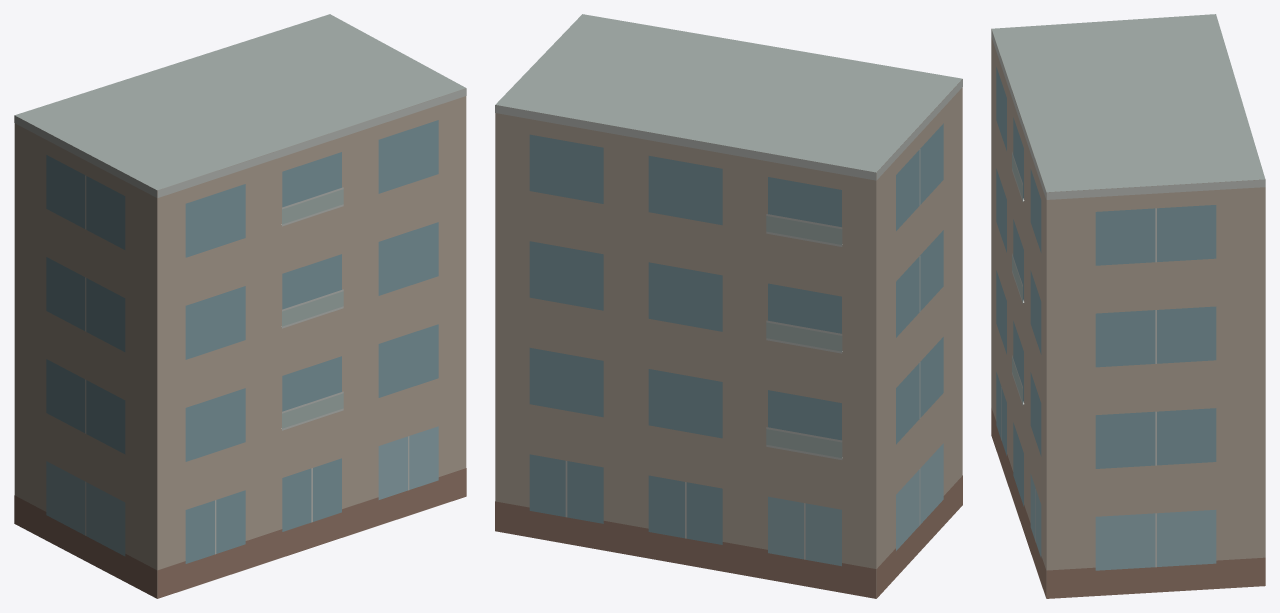
Rendered from survey-upis-32699369.glb.
The picture shows the model from 3 angles, left to right: view 1: azimuth 30°, elevation 25°; view 2: azimuth 150°, elevation 25°; view 3: azimuth 270°, elevation 25°; orthographic projection. The views are drawn at different scales.
Parts seen in each view (by area): view 1: survey-upis-32699369.tmp; view 2: survey-upis-32699369.tmp; view 3: survey-upis-32699369.tmp.
Part boxes in pixels (bbox=[...]): survey-upis-32699369.tmp: bbox=[14, 14, 466, 598]; survey-upis-32699369.tmp: bbox=[495, 14, 962, 598]; survey-upis-32699369.tmp: bbox=[991, 14, 1265, 598].
Size of the model in its own units: 12.04 by 12.8 by 7.83.
